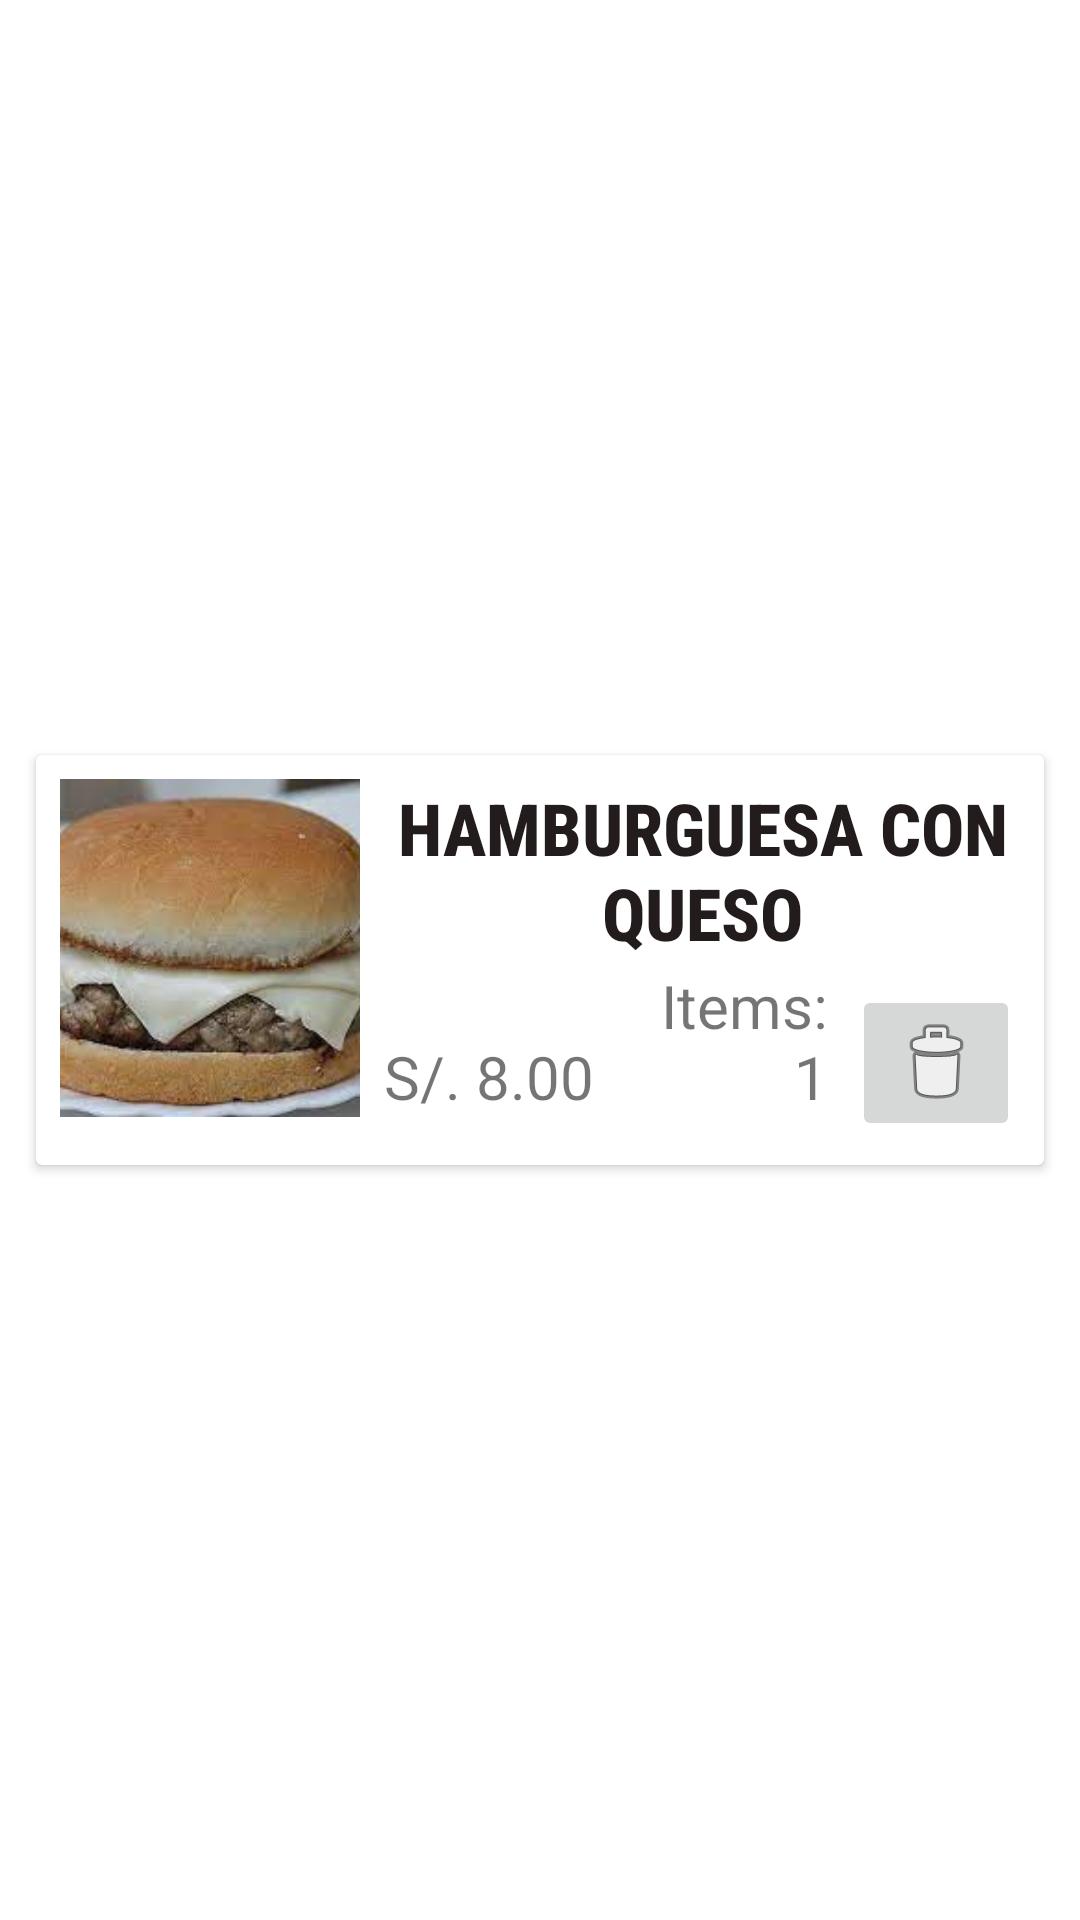

Screen size 1080x1920. Icon name, then its center in pixels as point (x, y):
burger: point (210, 948)
delete: point (936, 1063)
